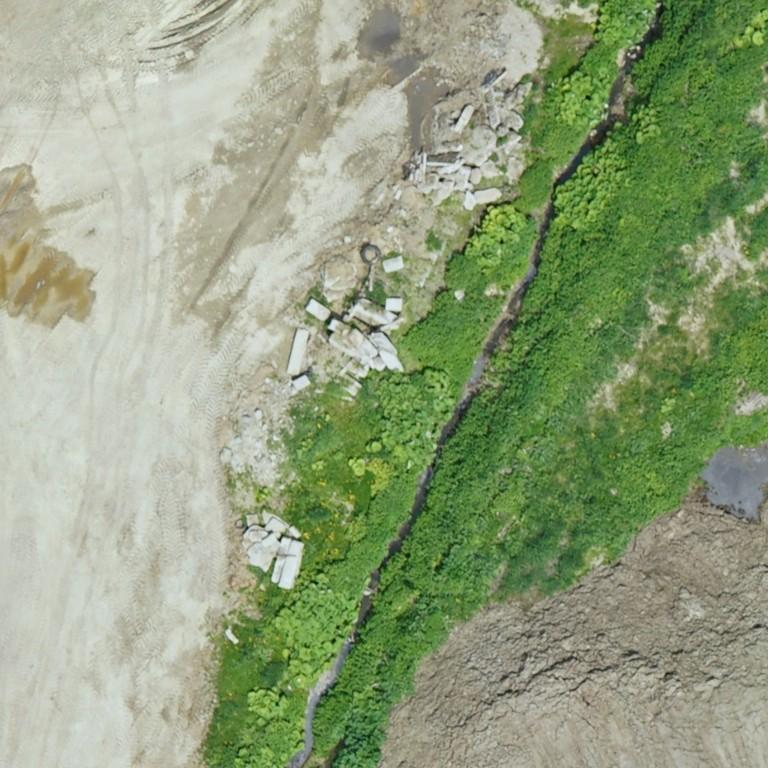hogweed: (331, 726, 385, 767), (438, 542, 464, 573)
